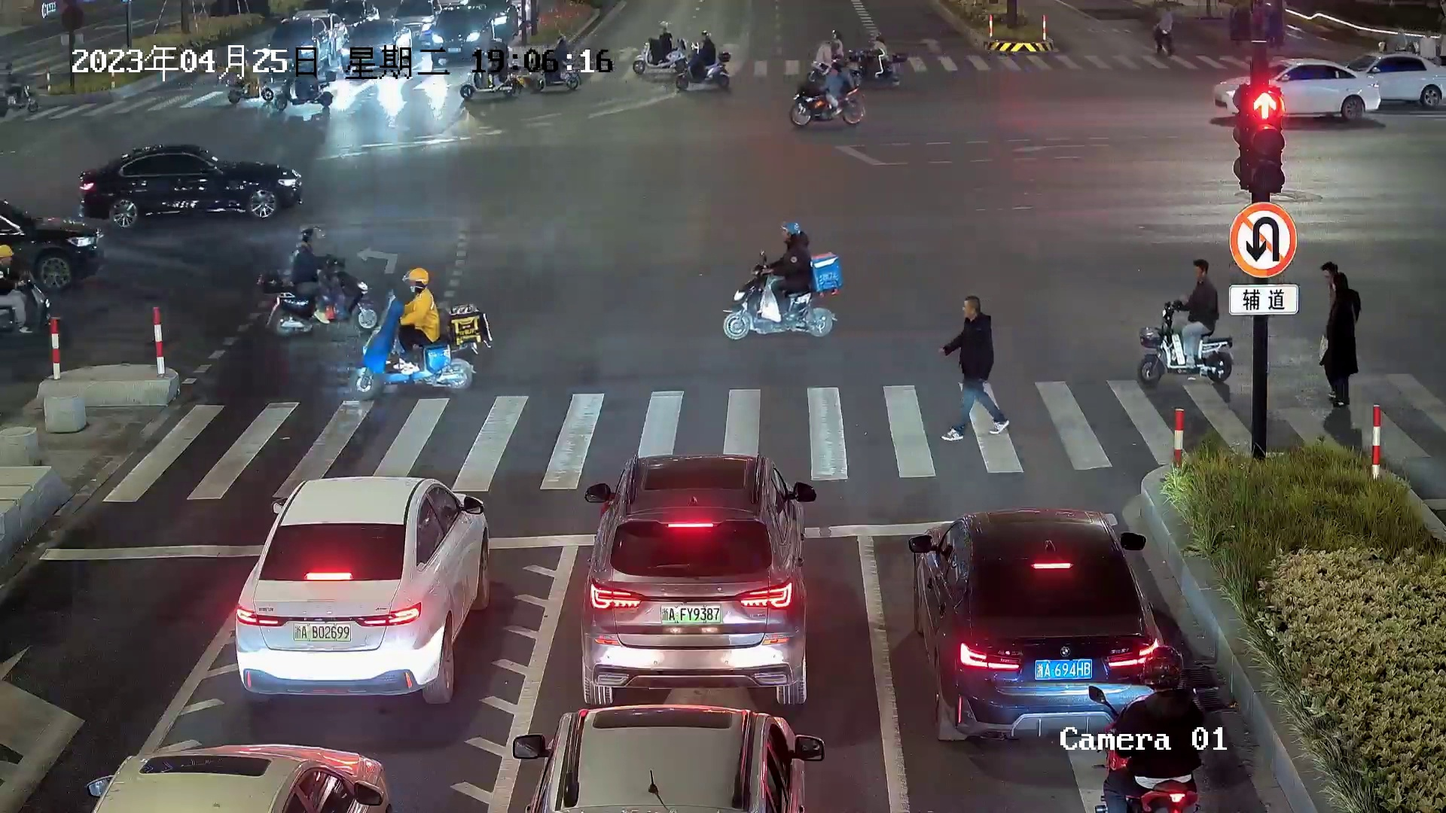person: (935, 287, 1010, 443), (1120, 642, 1199, 790), (287, 218, 333, 326), (768, 215, 807, 326), (1182, 251, 1217, 370), (400, 262, 435, 377), (1329, 273, 1355, 413), (1318, 257, 1348, 359), (2, 238, 22, 339), (696, 27, 715, 70), (654, 15, 670, 57)
vehicle: (578, 448, 819, 712), (227, 472, 493, 704), (907, 505, 1153, 740), (511, 700, 824, 813), (66, 735, 395, 811), (83, 132, 304, 224), (354, 292, 481, 400), (1210, 47, 1383, 126), (720, 254, 848, 344), (0, 195, 105, 285), (1137, 292, 1236, 380), (258, 267, 377, 334), (1352, 50, 1441, 110), (784, 72, 865, 129), (426, 8, 492, 63), (271, 74, 344, 112), (672, 54, 740, 91), (528, 56, 587, 96), (634, 35, 686, 75), (458, 66, 517, 100)
